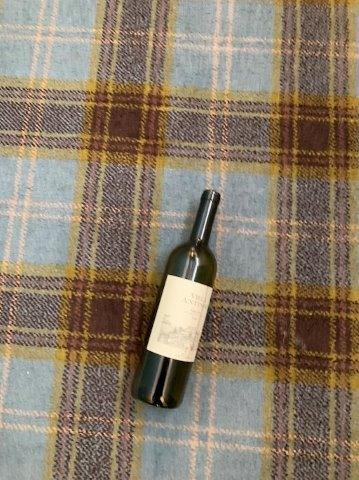botolkaca: (131, 190, 221, 410)
